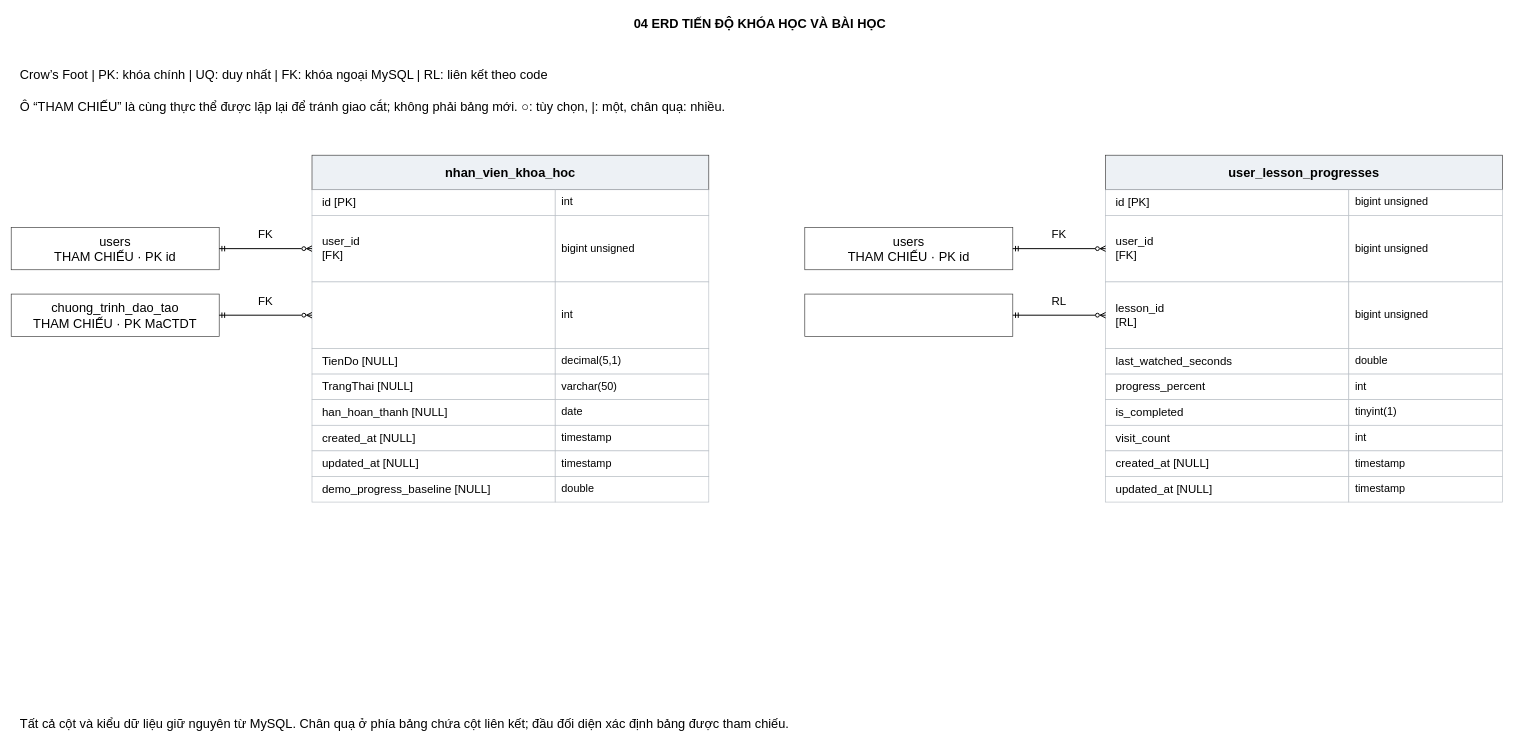
This 1520x751 diagram has some shape labels left out. The shapes that lost their labels are listed below. From the top down, each one's centre as x and y in pixels, then its label:
At point (433, 314): "MaCTDT [FK]".
At point (908, 314): "bai_hoc THAM CHIẾU · PK MaBaiHoc".
